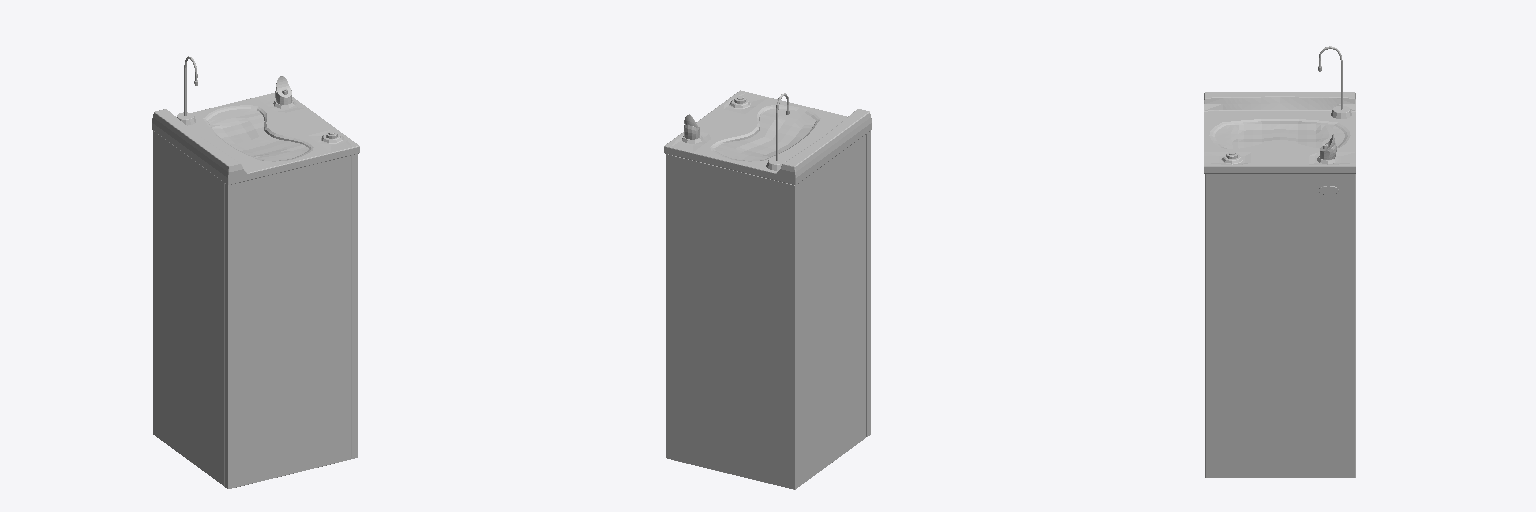
The model's file is WaterFountain.obj.
3 renders of one model, left to right at view 1: azimuth 30°, elevation 25°; view 2: azimuth 150°, elevation 25°; view 3: azimuth 270°, elevation 25°, orthographic.
Parts seen in each view (by area): view 1: Waterfountain; view 2: Waterfountain; view 3: Waterfountain.
Part boxes in pixels (x1,y1,x2,y2): Waterfountain: (152,56,359,488); Waterfountain: (664,90,871,489); Waterfountain: (1204,46,1355,477).
Size of the model in its own units: 4.67 by 12.85 by 4.67.